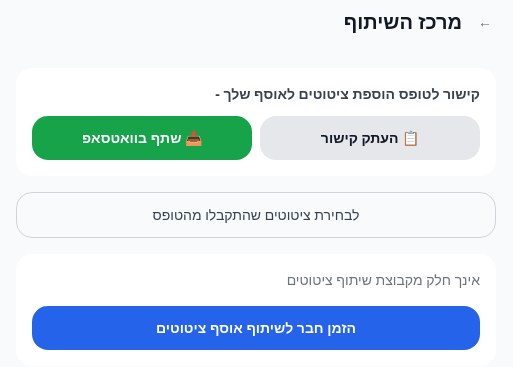
Test: SharingCenterScreen — guest link section › "העתק קישור" shows "הועתק!" after clipboard write
The image size is (513, 367).
Click the button "📋 העתק קישור".
click(370, 138)  # box 260,116 -> 480,160
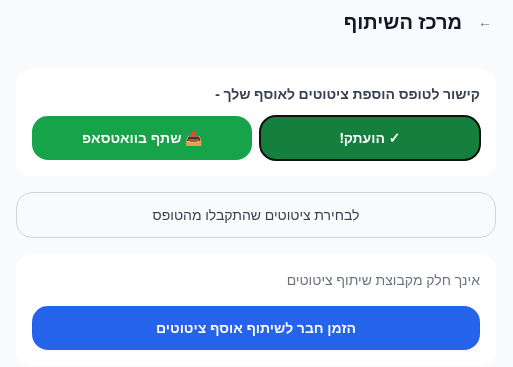
Expected: the button "✓ הועתק!" is shown, 260,116 -> 480,160
